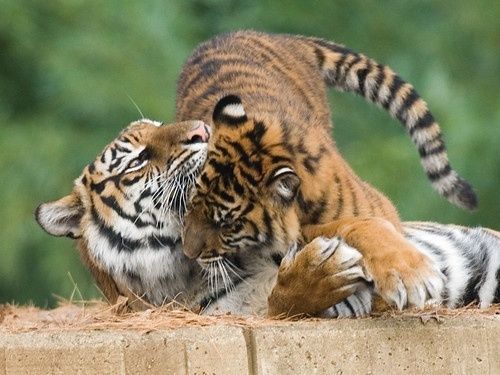tigre: (31, 111, 500, 315), (173, 26, 476, 277)
